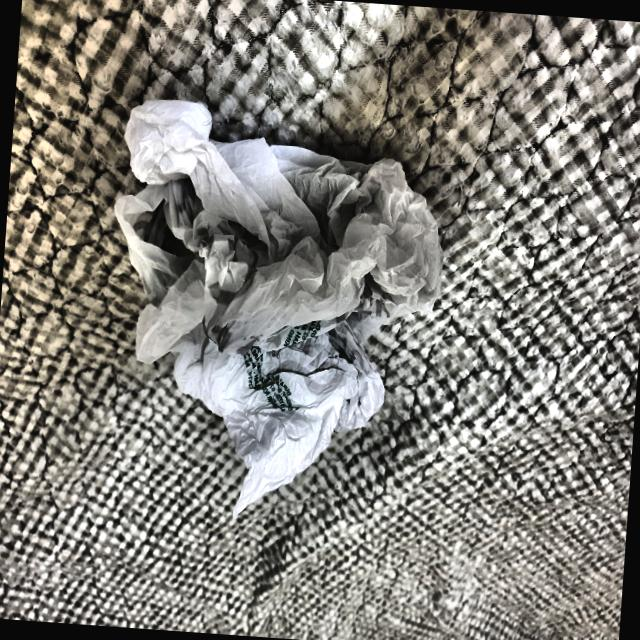plastic bag: (89, 86, 459, 532)
